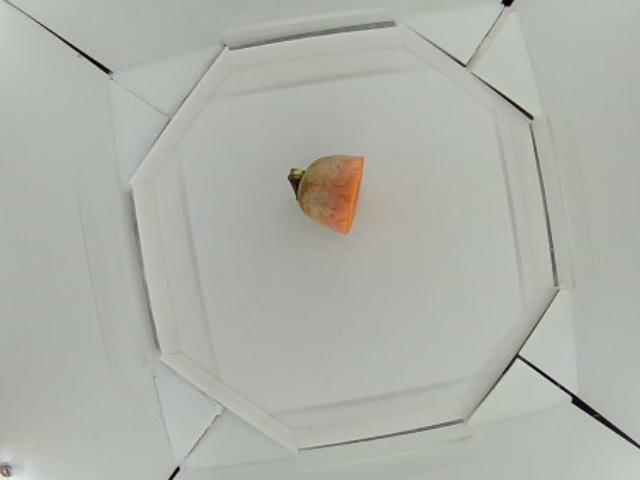Carrot: (287, 154, 368, 234)
